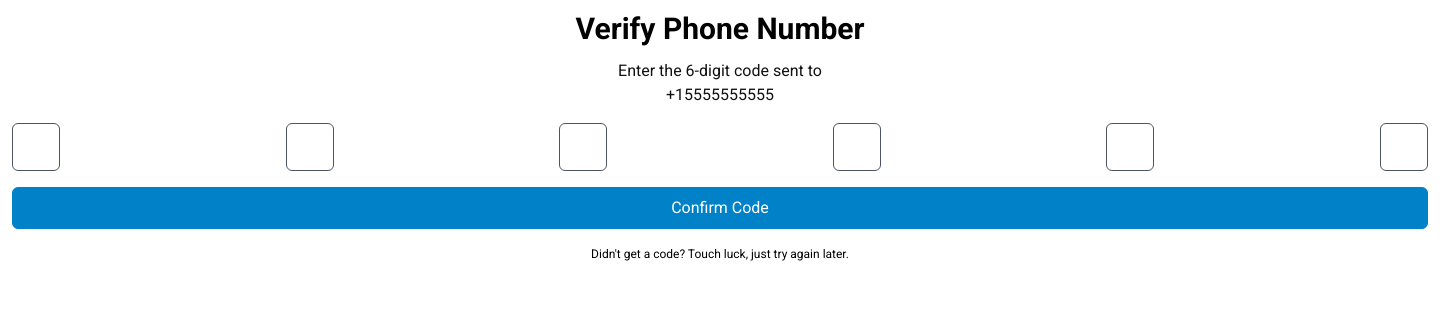
Test: VerifyPhone › shows the error and stays put on a bad code
The width and height of the screenshot is (1440, 314).
Step 1. Type "0" into the 1st field → (36, 147), box [12,123,60,171]
Step 2. Type "0" into the 2nd field → (310, 147), box [286,123,334,171]
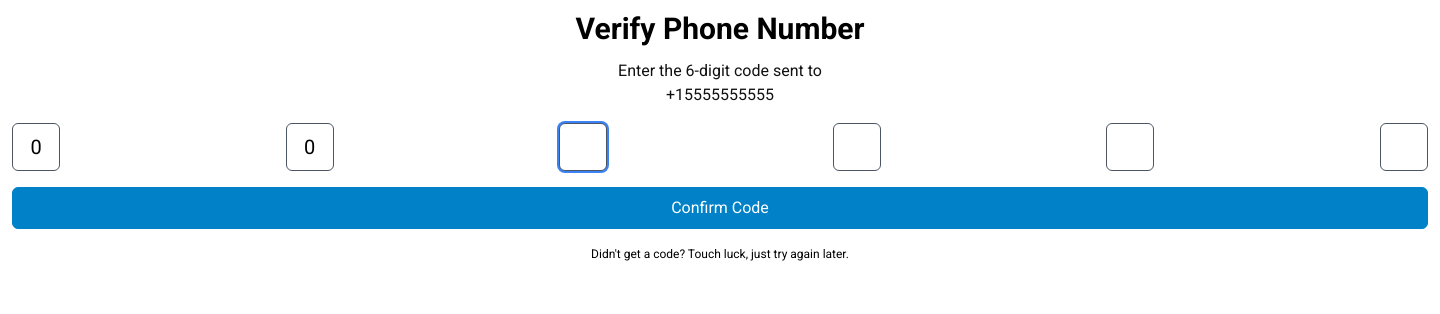
Step 3. Type "0" into the 3rd field → (583, 147), box [559,123,607,171]
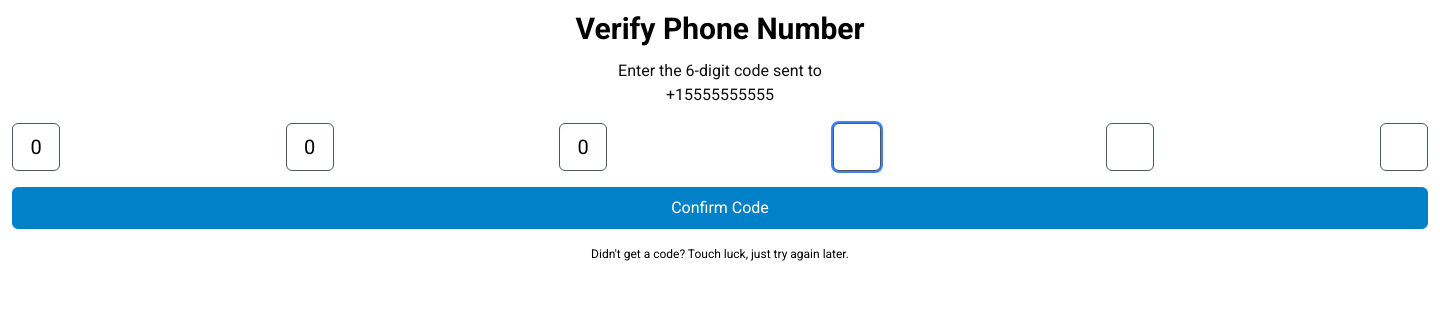
Step 4. Type "0" into the 4th field → (857, 147), box [833,123,881,171]
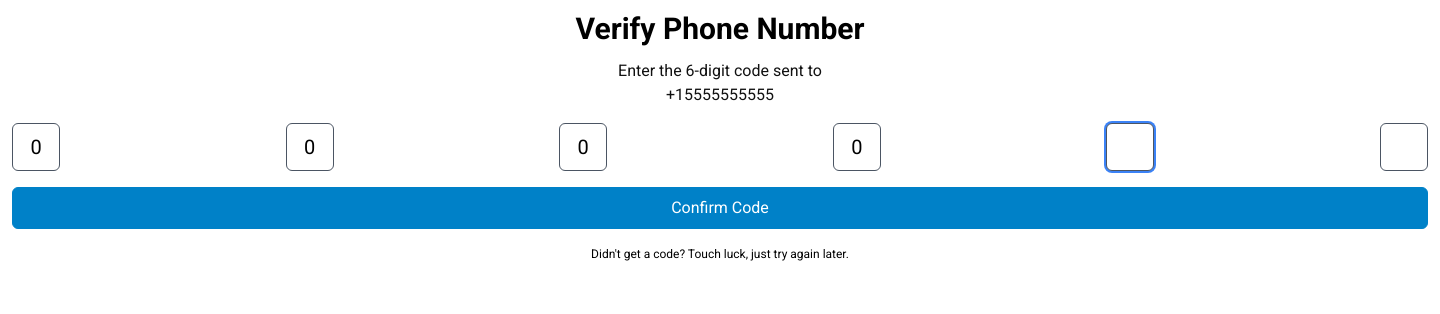
Step 5. Type "0" into the 5th field → (1130, 147), box [1106,123,1154,171]
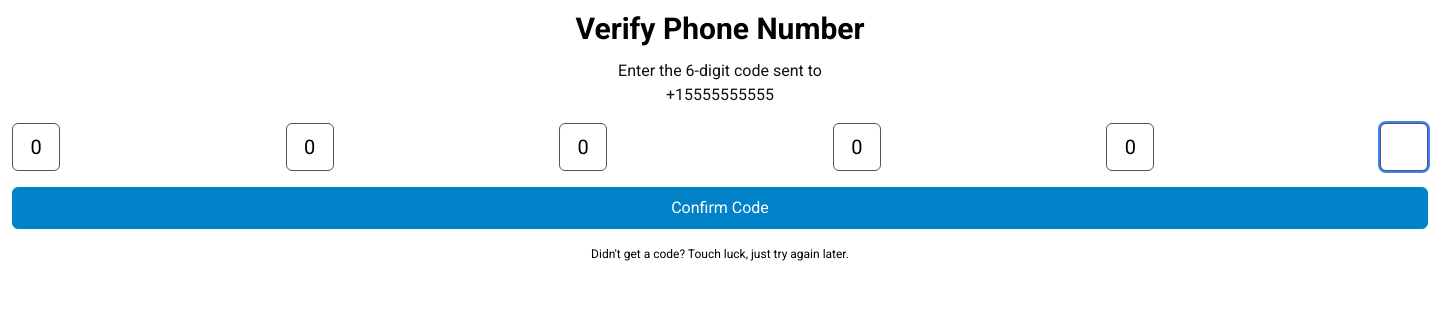
Step 6. Type "0" into the 6th field → (1404, 147), box [1380,123,1428,171]
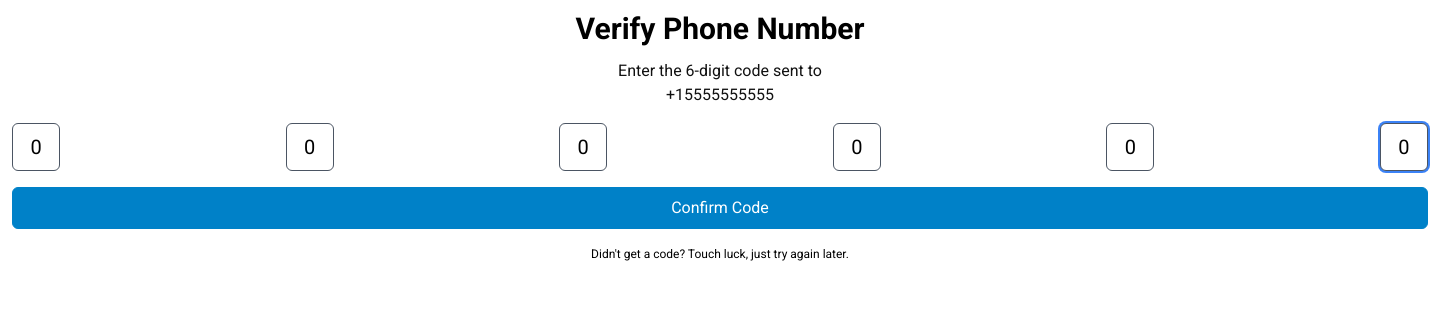
Step 7. Click the button "Confirm Code" → (720, 208), box [12,187,1428,229]
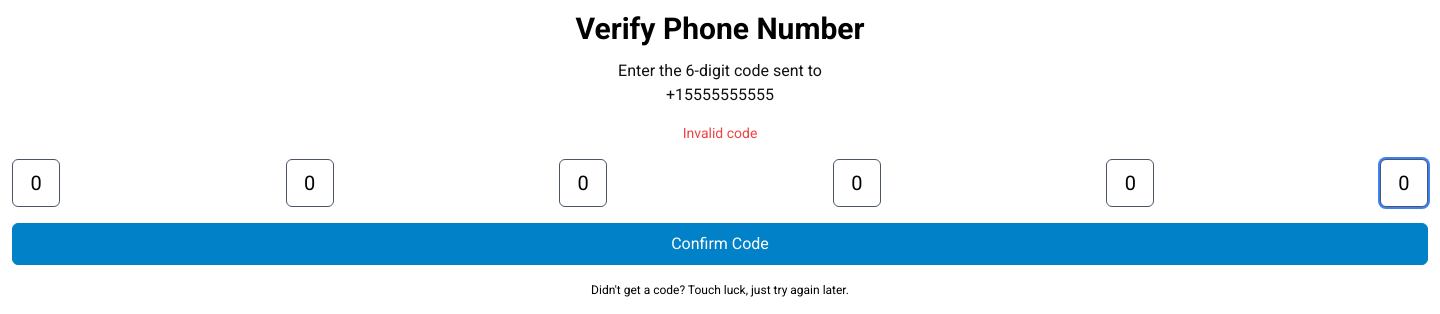
expect the text "Invalid code" is shown: met, box [683,125,757,141]
